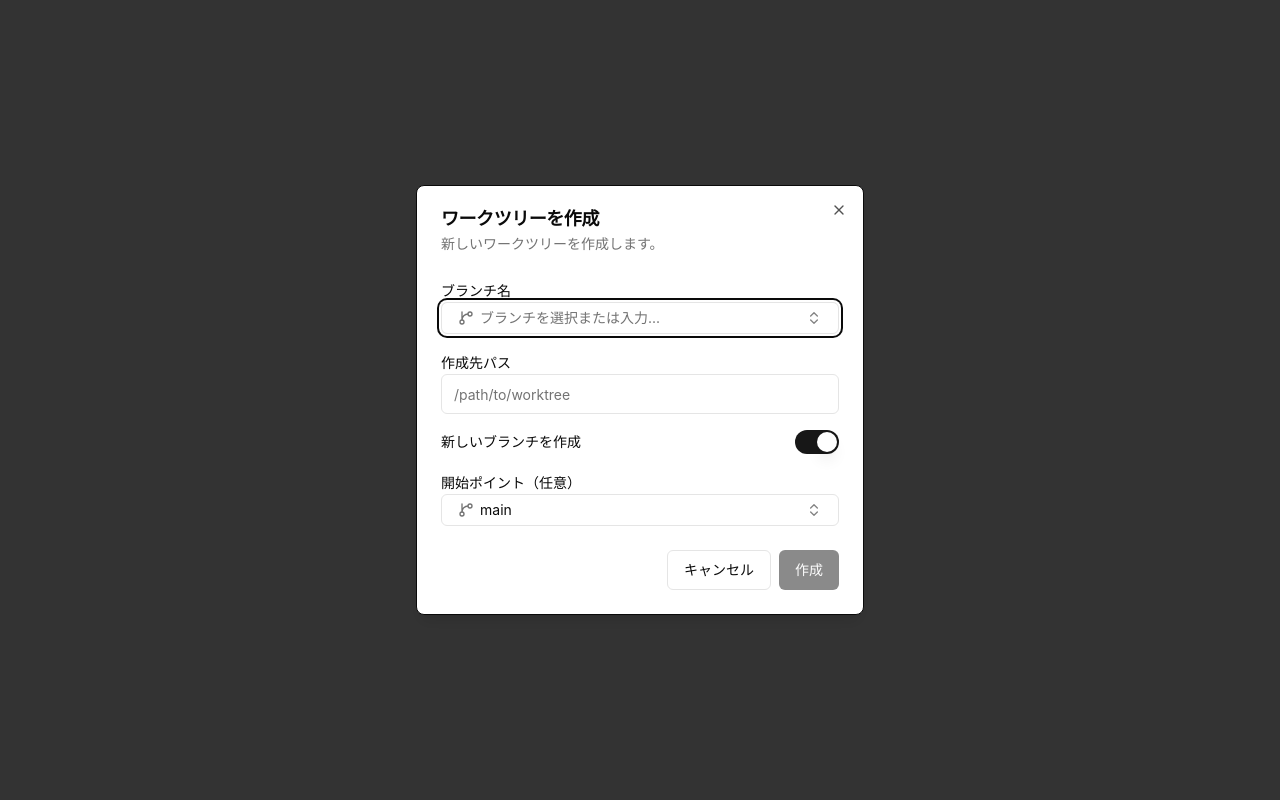
it: WorktreeCreateDialog › 「新しいブランチを作成」OFF 時に開始ポイント欄が非表示
Expected: the number of dropdowns is 2, x1=441 y1=302 x2=839 y2=334; x1=441 y1=494 x2=839 y2=526
# スイッチを OFF にする
Click the switch at point(817, 442), box x1=795 y1=430 x2=839 y2=454
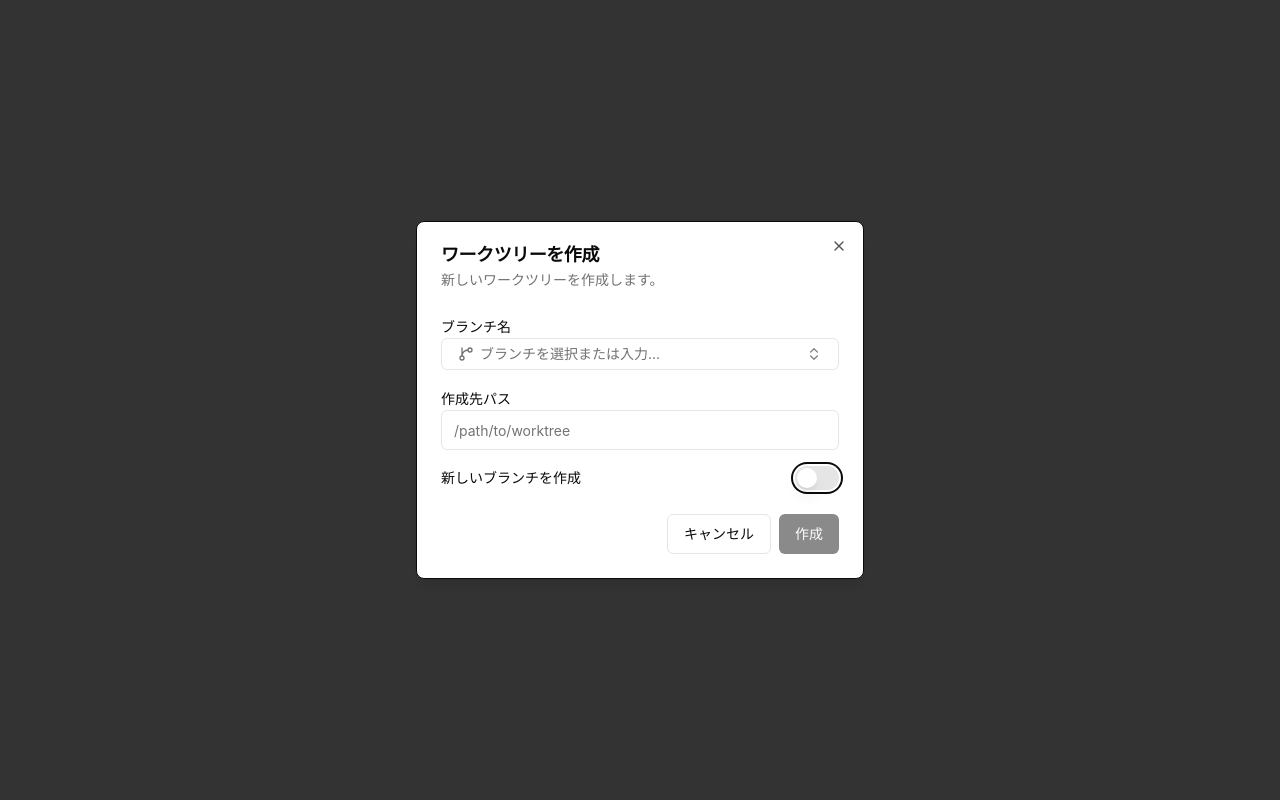
Expected: the number of dropdowns is 1, x1=441 y1=338 x2=839 y2=370
